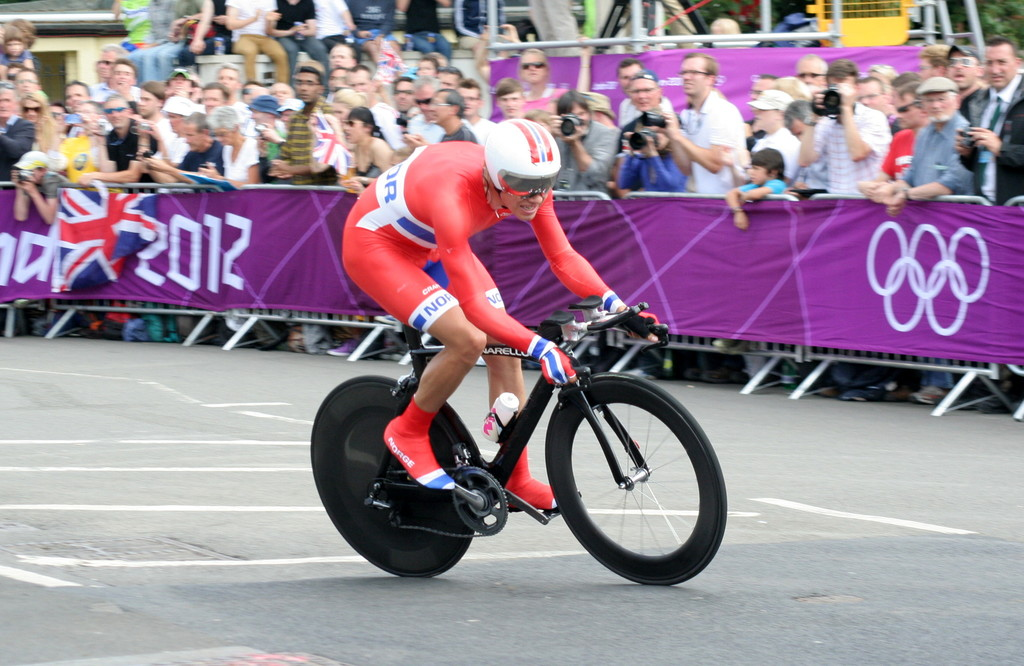Bike_toward: (307, 298, 728, 589)
